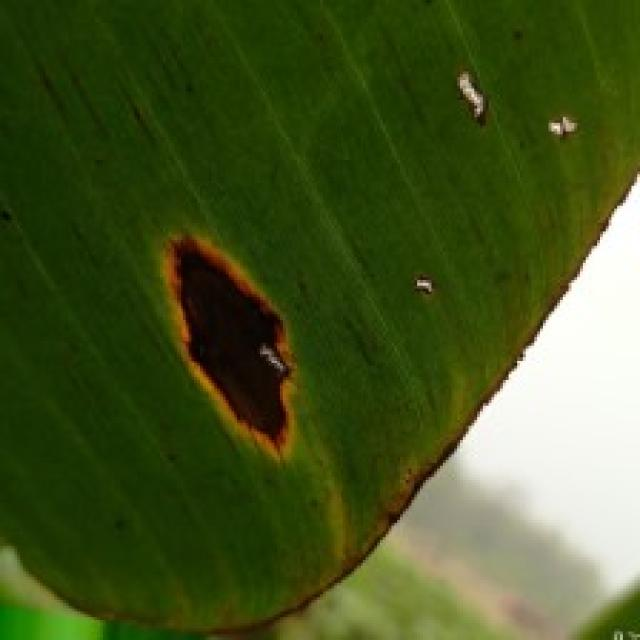Bacterial_spot: (140, 209, 316, 483), (449, 58, 503, 134), (539, 103, 586, 156), (404, 257, 444, 309)
